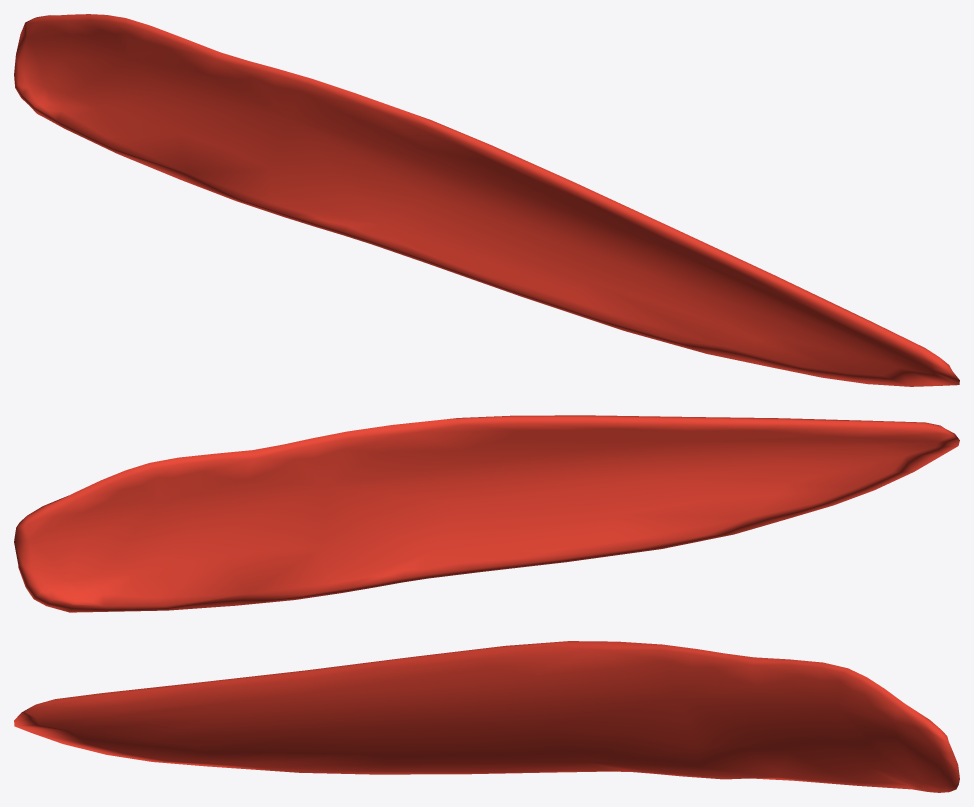
The model's file is Plantar_interossei_5th_metatarsal_right.glb.
3 renders of one model, top to bottom at view 1: azimuth 90°, elevation 25°; view 2: azimuth 150°, elevation 25°; view 3: azimuth 270°, elevation 25°, orthographic. The views are drawn at different scales.
Parts seen in each view (by area): view 1: Plantar_interossei_muscles_on_5th_metatarsal_bone.r_Generate; view 2: Plantar_interossei_muscles_on_5th_metatarsal_bone.r_Generate; view 3: Plantar_interossei_muscles_on_5th_metatarsal_bone.r_Generate.
Part boxes in pixels (x1,y1,x2,y2): Plantar_interossei_muscles_on_5th_metatarsal_bone.r_Generate: (14,14,959,386); Plantar_interossei_muscles_on_5th_metatarsal_bone.r_Generate: (14,415,959,612); Plantar_interossei_muscles_on_5th_metatarsal_bone.r_Generate: (14,641,959,792).
Bounding box in the file's own units: 0.0146 × 0.00812 × 0.0307.
